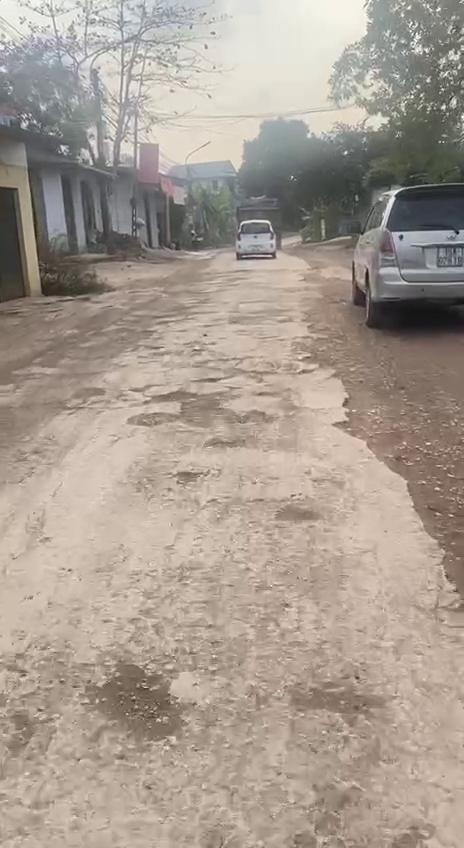pothole: (86, 661, 188, 743), (128, 385, 276, 426)
